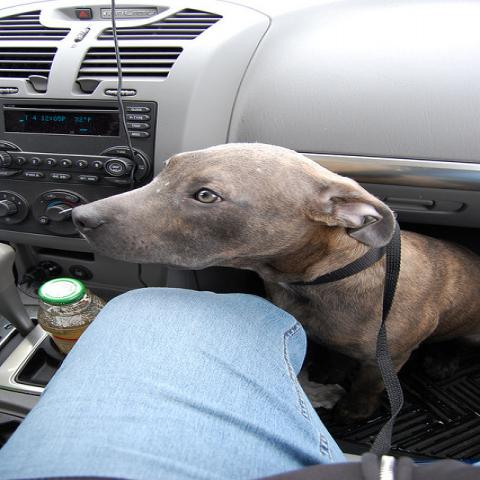car: (3, 3, 479, 474)
